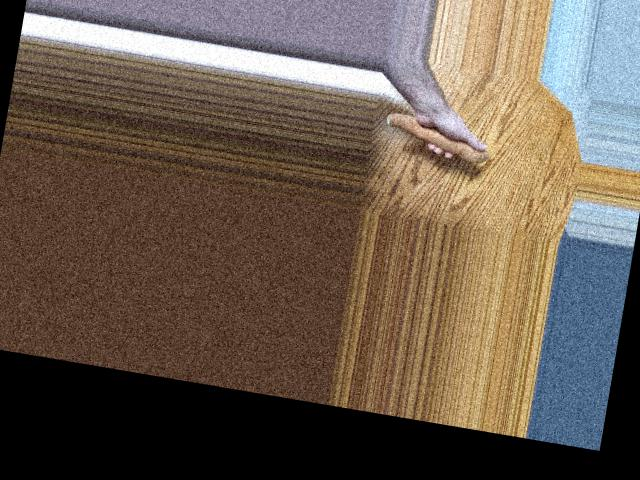sweet_potato: (381, 109, 492, 165)
